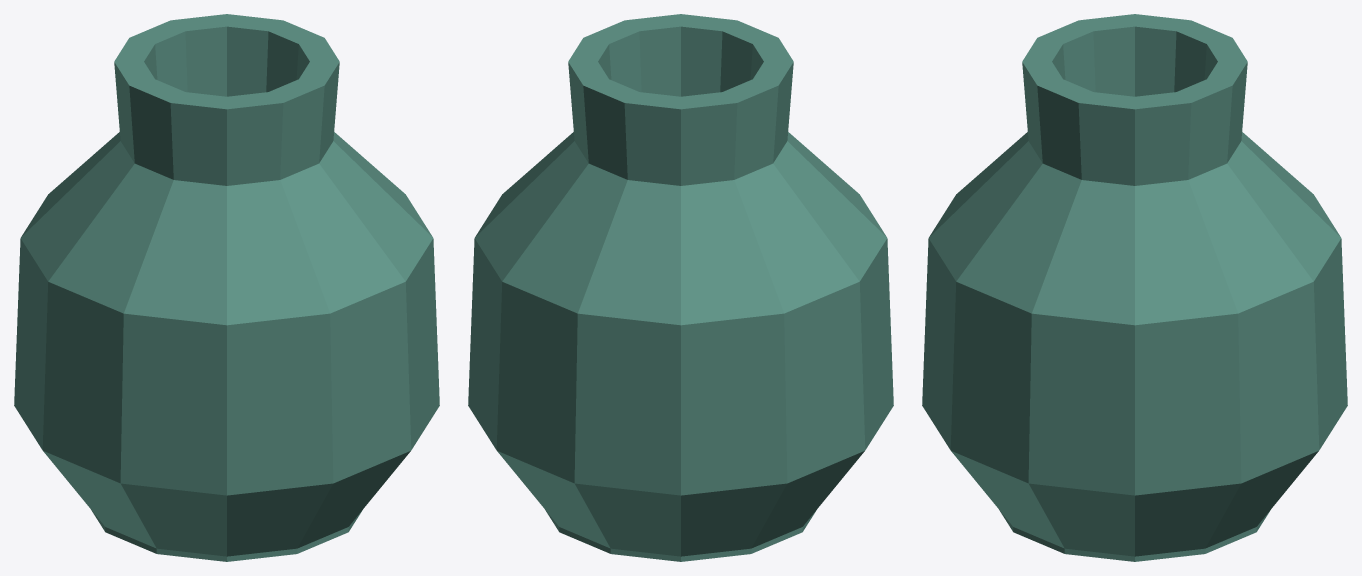
The model's file is water-jar.glb.
3 renders of one model, left to right at view 1: azimuth 30°, elevation 25°; view 2: azimuth 150°, elevation 25°; view 3: azimuth 270°, elevation 25°, orthographic.
Visible parts, largest first — view 1: water-jar__body; view 2: water-jar__body; view 3: water-jar__body.
Part boxes in pixels (left/top/right/bottom): water-jar__body: left=14, top=14, right=439, bottom=561; water-jar__body: left=468, top=14, right=893, bottom=561; water-jar__body: left=922, top=14, right=1347, bottom=561.
Size of the model in its own units: 0.28 by 0.32 by 0.28.
